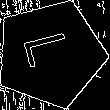L_E: (21, 33, 80, 76)
